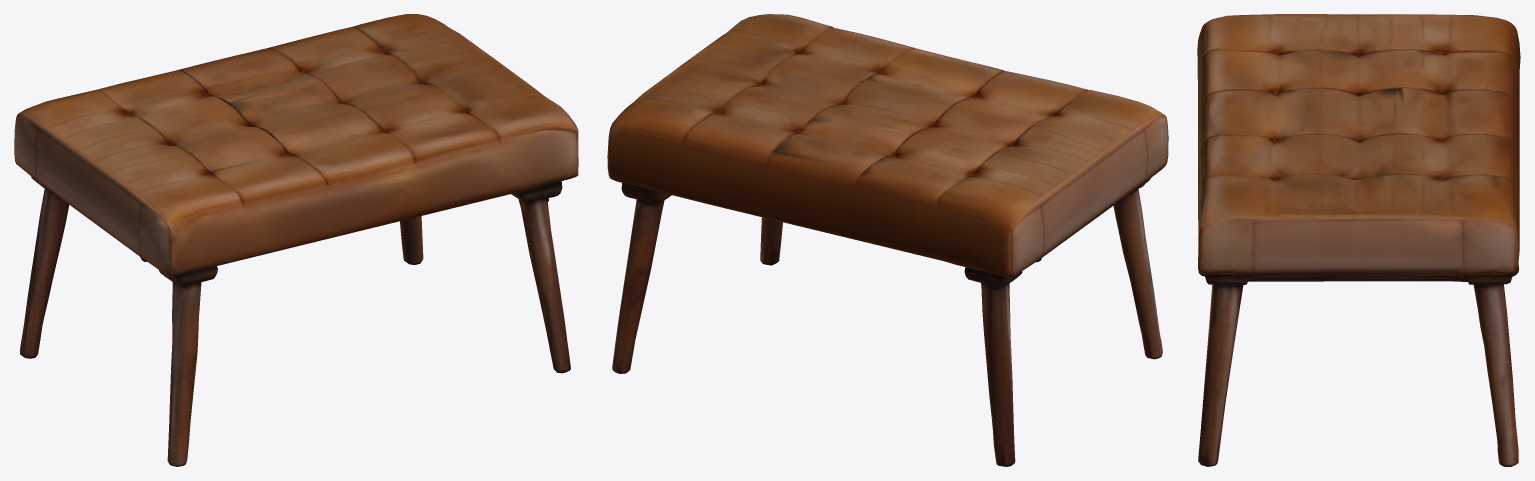
3 views of the same model, side by side, from view 1: azimuth 30°, elevation 25°; view 2: azimuth 150°, elevation 25°; view 3: azimuth 270°, elevation 25° (orthographic).
Parts seen in each view (by area): view 1: geometry_0; view 2: geometry_0; view 3: geometry_0.
Part boxes in pixels (x1,y1,x2,y2): geometry_0: [14, 14, 578, 466]; geometry_0: [607, 14, 1168, 466]; geometry_0: [1197, 14, 1520, 466].
Size of the model in its own units: 0.9992 by 0.588 by 0.662.
1 material, 1 textured.
